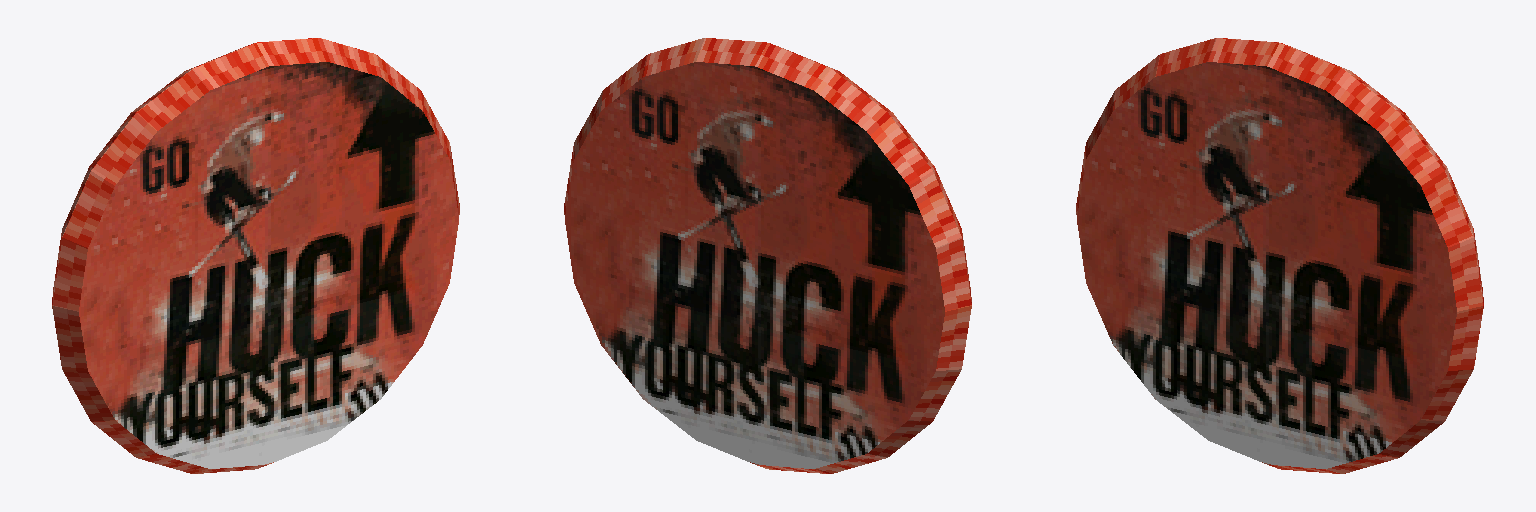
The picture shows the model from 3 angles: view 1: azimuth 30°, elevation 25°; view 2: azimuth 150°, elevation 25°; view 3: azimuth 330°, elevation 25°; orthographic projection.
Bounding box in the file's own units: 4.7 × 4.7 × 0.519.
1 materials, 1 textured.